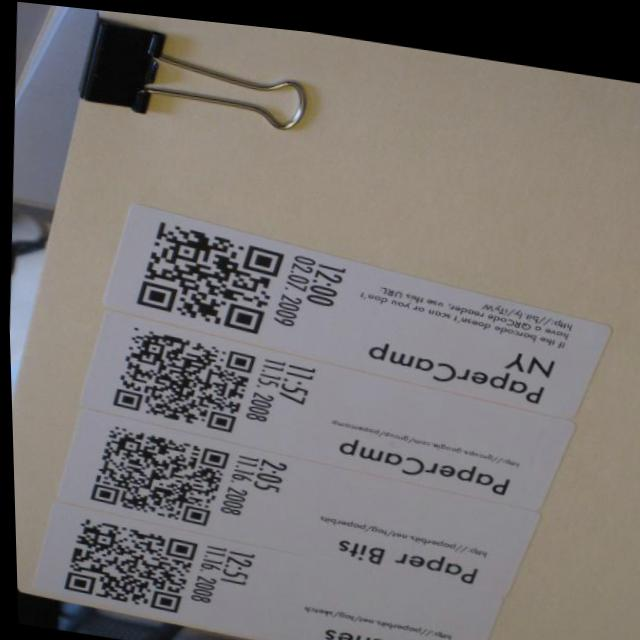qrcode: (132, 215, 286, 332), (108, 321, 257, 431), (85, 421, 229, 525), (58, 515, 196, 613)
